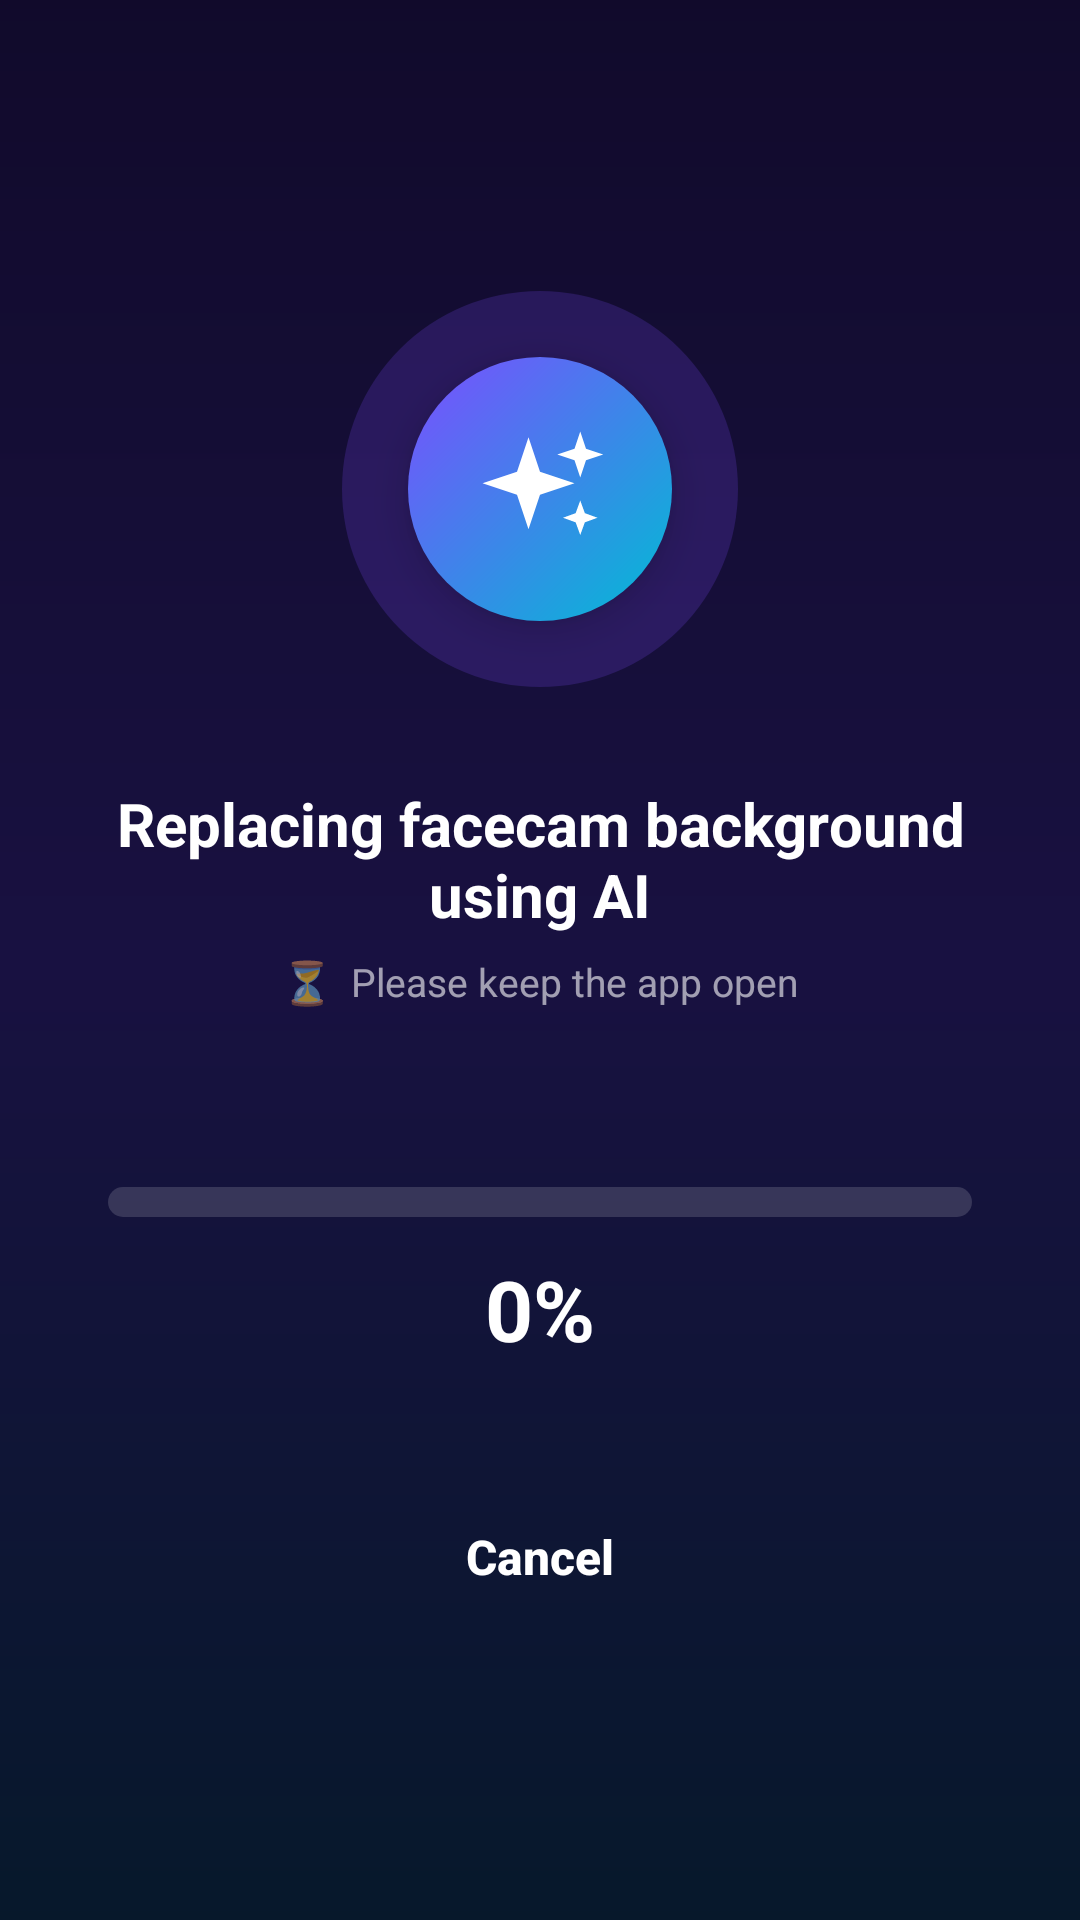

Where to tap for icons on this 1080 x 1920 app screen, as (x,y):
ai sparkle: (540,489)
